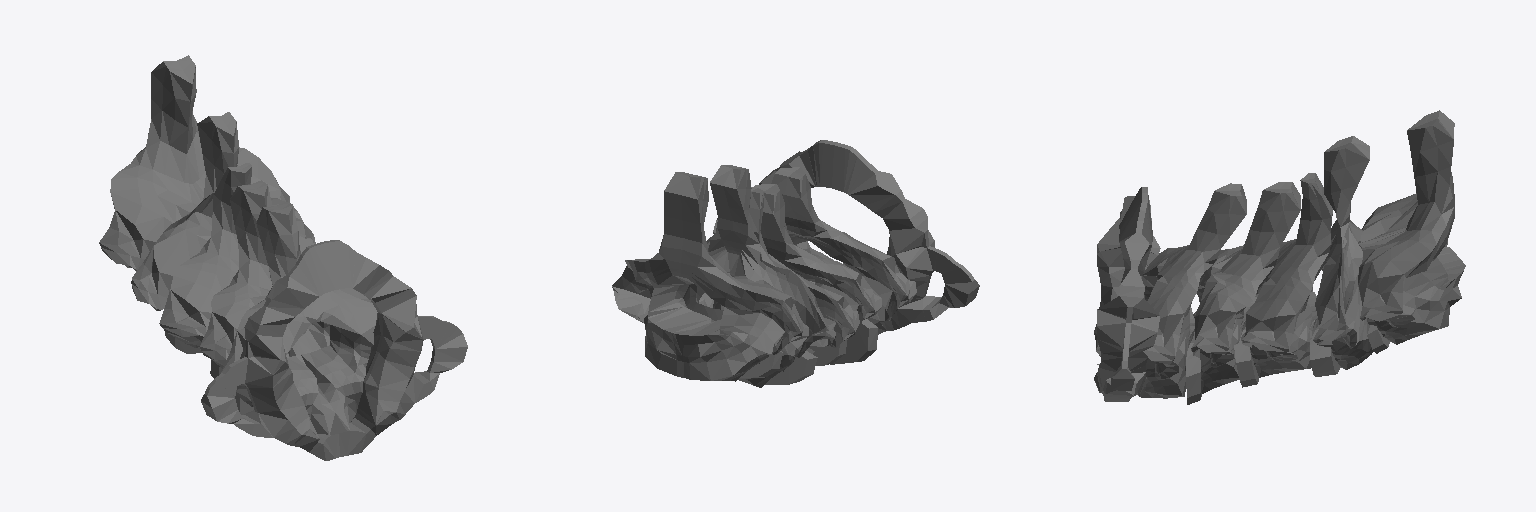
File: Female_Skeletal_Cervical_Vertebra.obj
The picture shows the model from 3 angles: view 1: azimuth 30°, elevation 25°; view 2: azimuth 150°, elevation 25°; view 3: azimuth 270°, elevation 25°; orthographic projection.
Visible parts, largest first — view 1: Female_Skeletal_Cervical_Vertebra; view 2: Female_Skeletal_Cervical_Vertebra; view 3: Female_Skeletal_Cervical_Vertebra.
Boxes of the visible parts, x1=… form: Female_Skeletal_Cervical_Vertebra: x1=99, y1=55, x2=467, y2=460; Female_Skeletal_Cervical_Vertebra: x1=612, y1=140, x2=979, y2=387; Female_Skeletal_Cervical_Vertebra: x1=1094, y1=110, x2=1465, y2=404.
Size of the model in its own units: 0.7173 by 0.746 by 0.904.